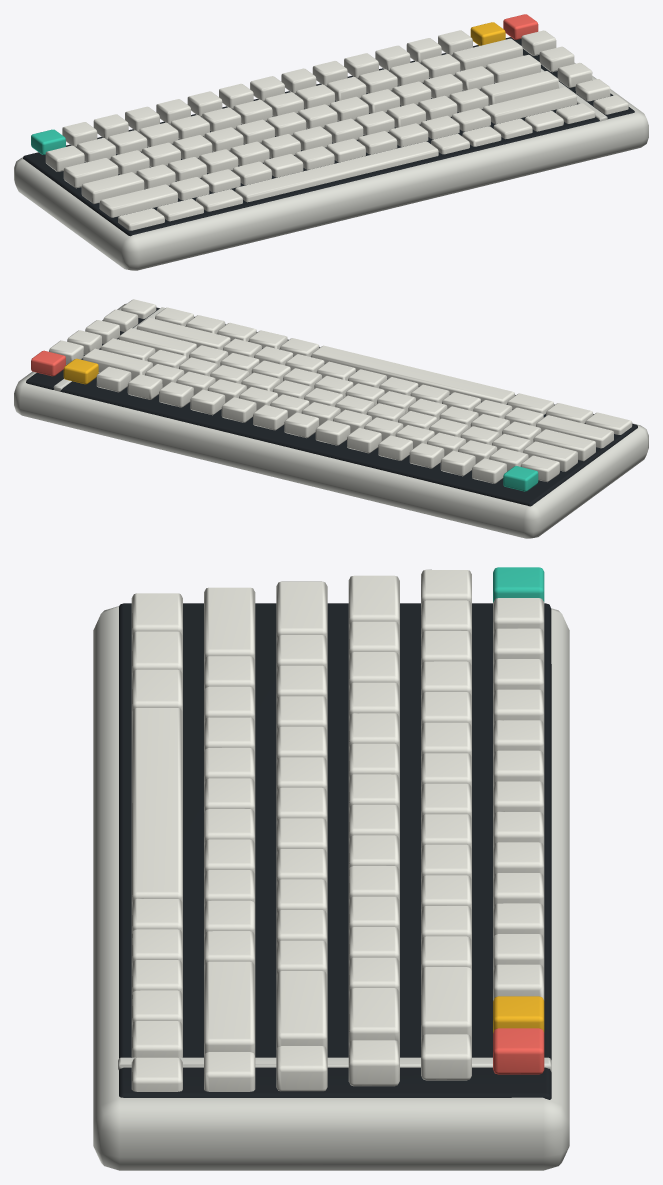
3 renders of one model, top to bottom at view 1: azimuth 30°, elevation 25°; view 2: azimuth 150°, elevation 25°; view 3: azimuth 270°, elevation 25°, orthographic. The views are drawn at different scales.
Parts seen in each view (by area): view 1: Keycap function 01, Keyboard shell, Main recessed deck, Keycap separated coral, Keycap function 00, Keycap separated yellow; view 2: Keycap function 01, Keyboard shell, Main recessed deck, Keycap function 00, Keycap separated yellow, Keycap separated coral; view 3: Keycap function 01, Main recessed deck, Keyboard shell, Keycap separated coral, Keycap separated yellow, Keycap function 00.
Part boxes in pixels (x1,y1,x2,y2): Keycap function 01: (45, 30, 628, 230); Keyboard shell: (14, 55, 648, 270); Main recessed deck: (23, 37, 634, 236); Keycap separated coral: (503, 14, 538, 39); Keycap function 00: (31, 129, 65, 154); Keycap separated yellow: (470, 22, 505, 45); Keycap function 01: (49, 299, 632, 483); Keyboard shell: (14, 303, 648, 538); Main recessed deck: (26, 307, 637, 506); Keycap function 00: (503, 466, 538, 491); Keycap separated yellow: (63, 358, 98, 384); Keycap separated coral: (31, 350, 65, 376); Keycap function 01: (131, 569, 544, 1091); Main recessed deck: (119, 603, 551, 1099); Keyboard shell: (93, 606, 569, 1170); Keycap separated coral: (493, 1028, 544, 1074); Keycap separated yellow: (493, 996, 544, 1032); Keycap function 00: (493, 567, 544, 602).
Bounding box in the file's own units: 0.37 × 0.0391 × 0.145.
